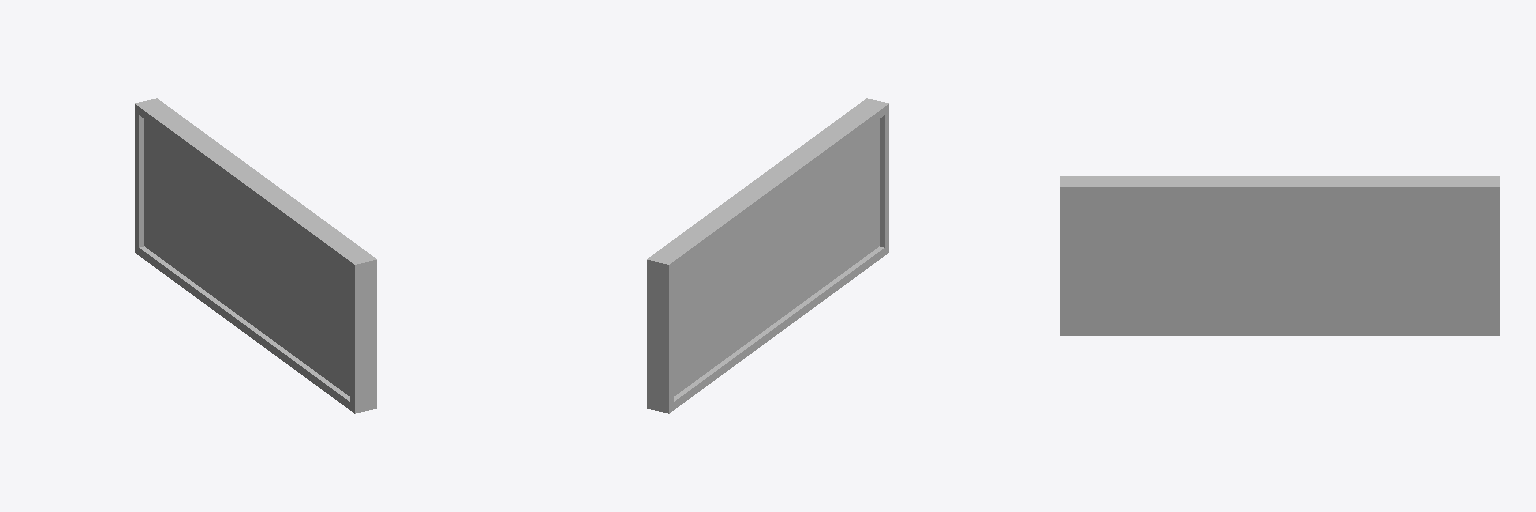
Rendered from sign.obj.
The picture shows the model from 3 angles: view 1: azimuth 30°, elevation 25°; view 2: azimuth 150°, elevation 25°; view 3: azimuth 270°, elevation 25°; orthographic projection.
Parts seen in each view (by area): view 1: sign.002_Plane.006; view 2: sign.002_Plane.006; view 3: sign.002_Plane.006.
Part boxes in pixels (left/top/right/bottom): sign.002_Plane.006: left=135, top=98, right=376, bottom=413; sign.002_Plane.006: left=647, top=98, right=888, bottom=413; sign.002_Plane.006: left=1060, top=176, right=1499, bottom=335.
Bounding box in the file's own units: 0.1439 × 0.9124 × 2.45.